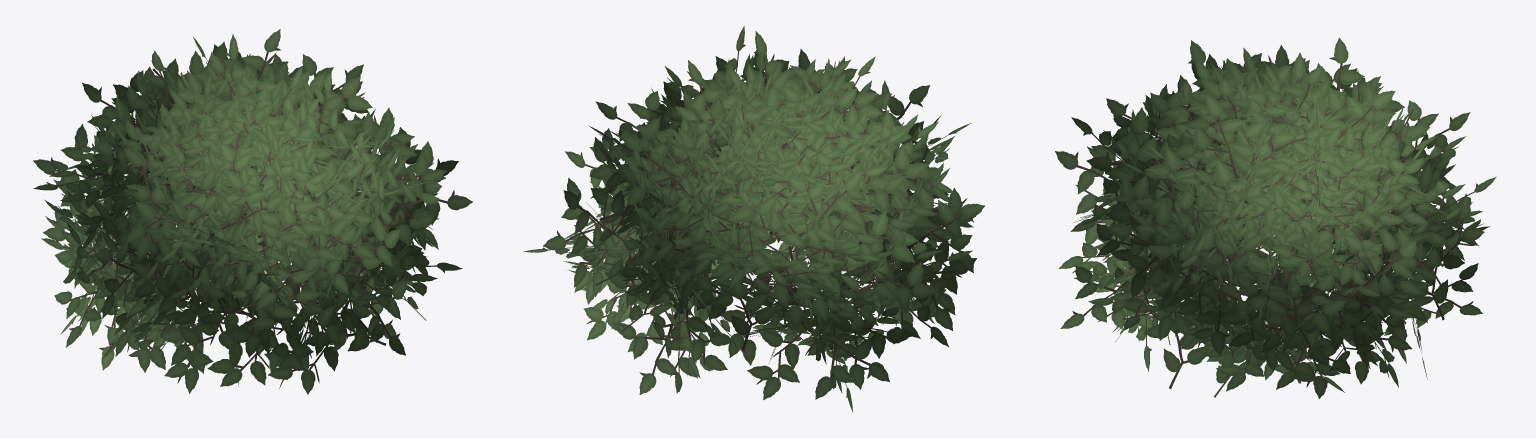
The model's file is Bush.fbx.
3 views of the same model, side by side, from view 1: azimuth 30°, elevation 25°; view 2: azimuth 150°, elevation 25°; view 3: azimuth 270°, elevation 25° (orthographic).
Visible parts, largest first — view 1: Leaves; view 2: Leaves; view 3: Leaves.
Boxes of the visible parts, x1,y1,x2,y2 form: Leaves: (33,29,472,394); Leaves: (523,25,984,411); Leaves: (1055,37,1496,398).
Size of the model in its own units: 745 by 559 by 750.
